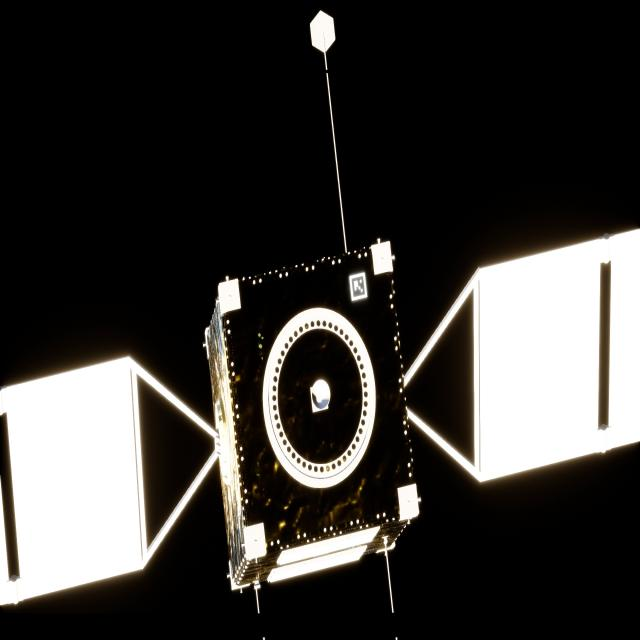medium_debris: (0, 229, 640, 609)
